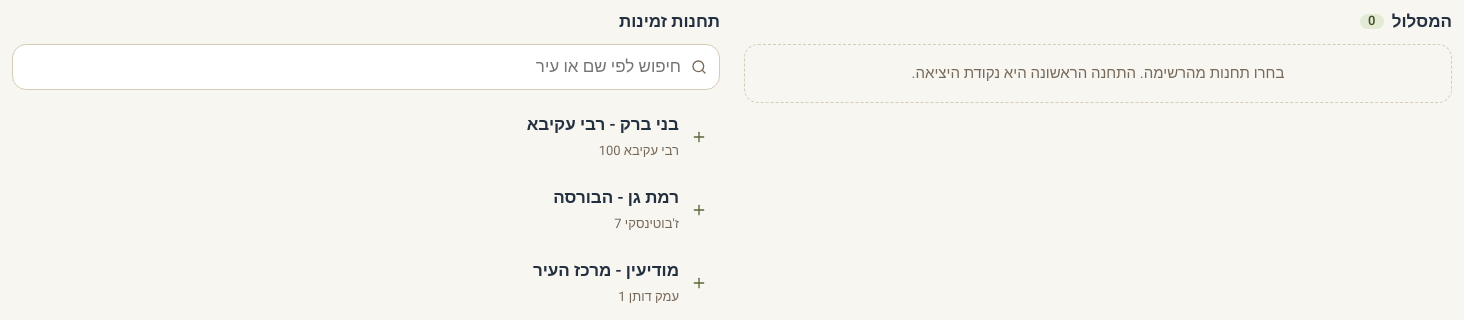
Test: RouteBuilder › adds stops in the order they are picked
Click the button "רמת גן - הבורסה ז'בוטינסקי 7": {"x": 616, "y": 198} [12, 175, 720, 244]
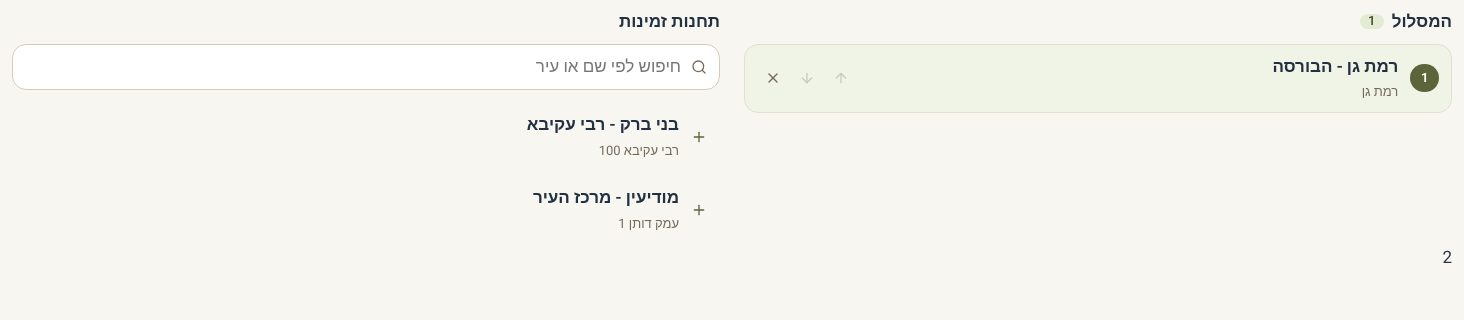
Click the button "בני ברק - רבי עקיבא רבי עקיבא 100": {"x": 603, "y": 125} [12, 102, 720, 171]
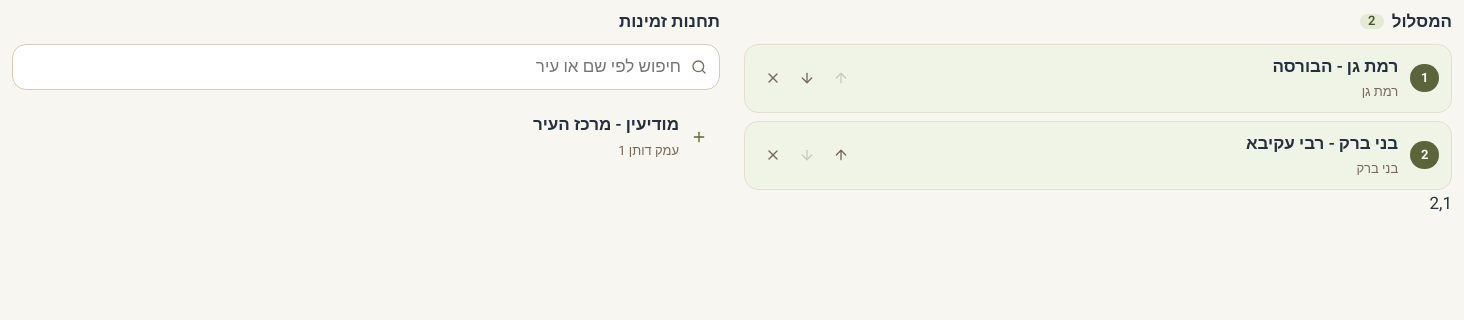
Result: the text with test id "route" reads "2,1" at [1430, 190, 1452, 216]
